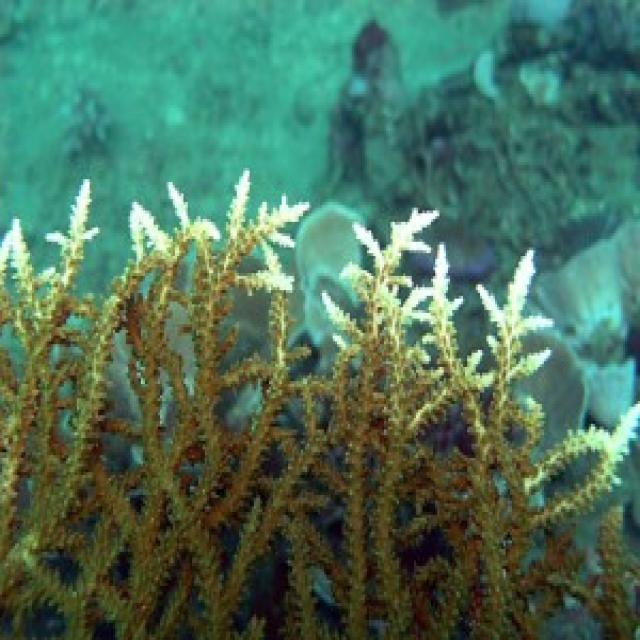Bleached: (131, 177, 304, 291), (406, 203, 500, 325), (1, 183, 93, 271), (583, 399, 640, 459)
Healthy: (1, 305, 630, 638), (353, 211, 462, 374), (1, 180, 99, 348), (479, 251, 551, 408), (227, 172, 308, 291), (131, 183, 221, 268), (571, 402, 639, 490), (528, 450, 558, 487)
